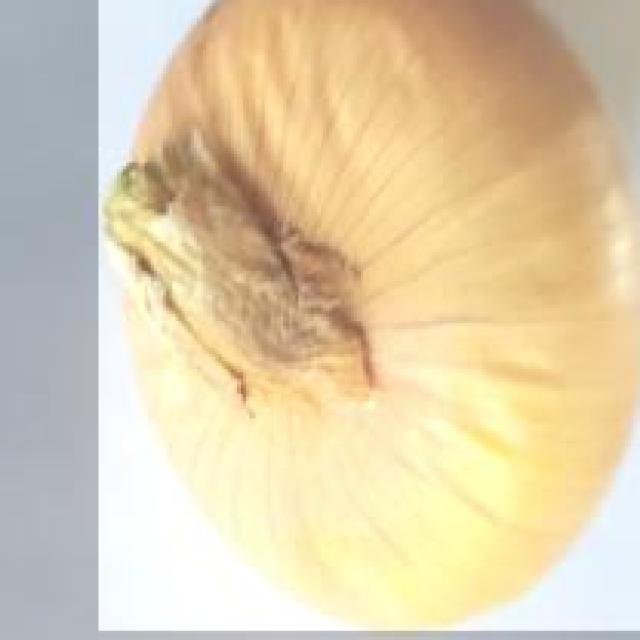onion: (95, 0, 640, 634)
